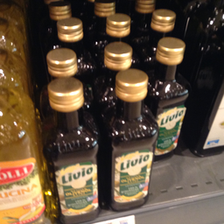oil: (40, 76, 106, 222), (104, 70, 162, 211), (150, 36, 189, 161)
